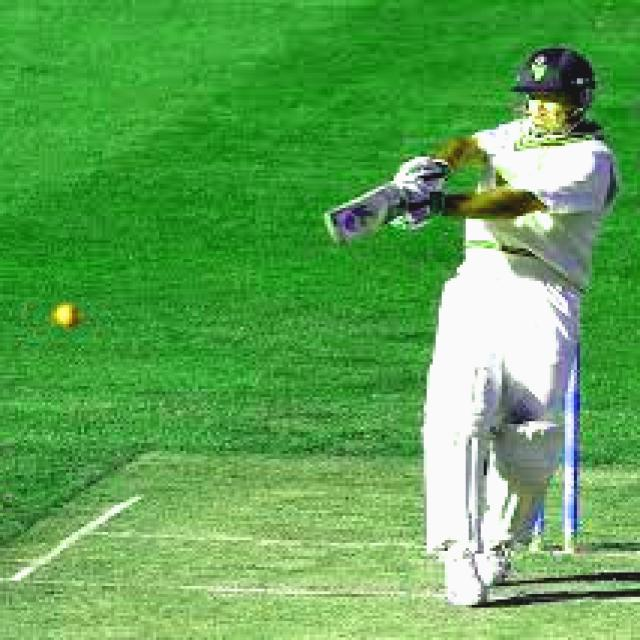toe: (320, 210, 349, 251)
